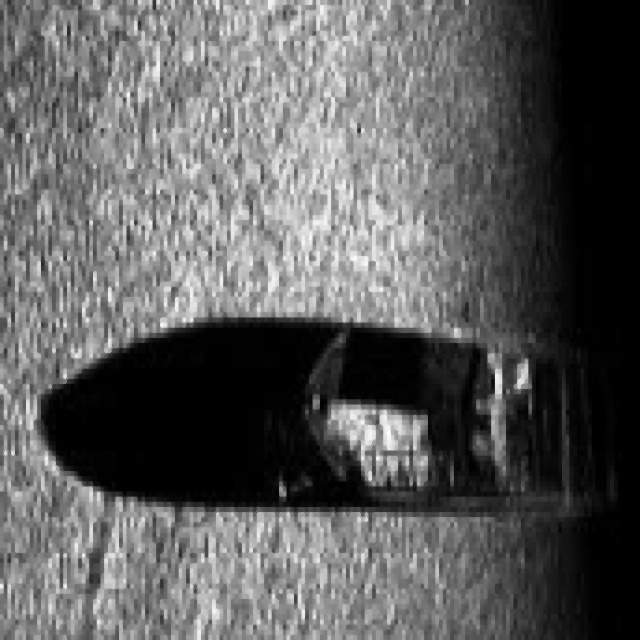Ship: (294, 314, 581, 525)
